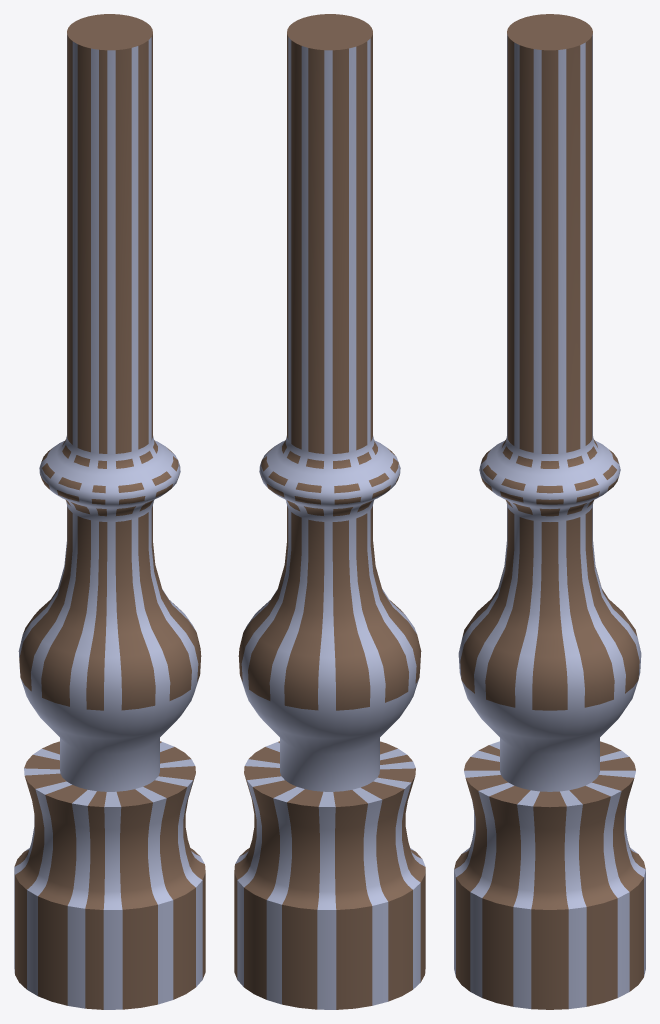
File: SM_Blockout_Pilier_01.fbx
3 views of the same model, side by side, from view 1: azimuth 30°, elevation 25°; view 2: azimuth 150°, elevation 25°; view 3: azimuth 270°, elevation 25° (orthographic).
Visible parts, largest first — view 1: Pilier_1; view 2: Pilier_1; view 3: Pilier_1.
Boxes of the visible parts, left/top/right/bottom form: Pilier_1: left=14, top=14, right=205, bottom=1009; Pilier_1: left=234, top=14, right=425, bottom=1009; Pilier_1: left=454, top=14, right=645, bottom=1009.
Size of the model in its own units: 111 by 600 by 111.
